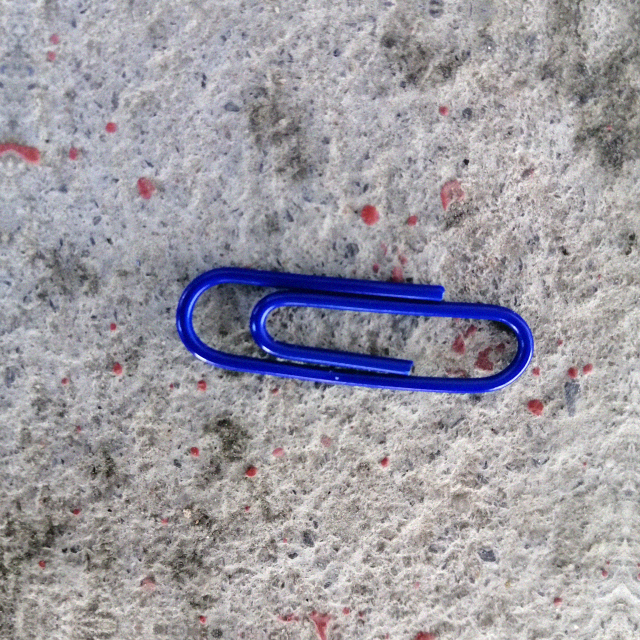pin: (179, 271, 531, 396)
